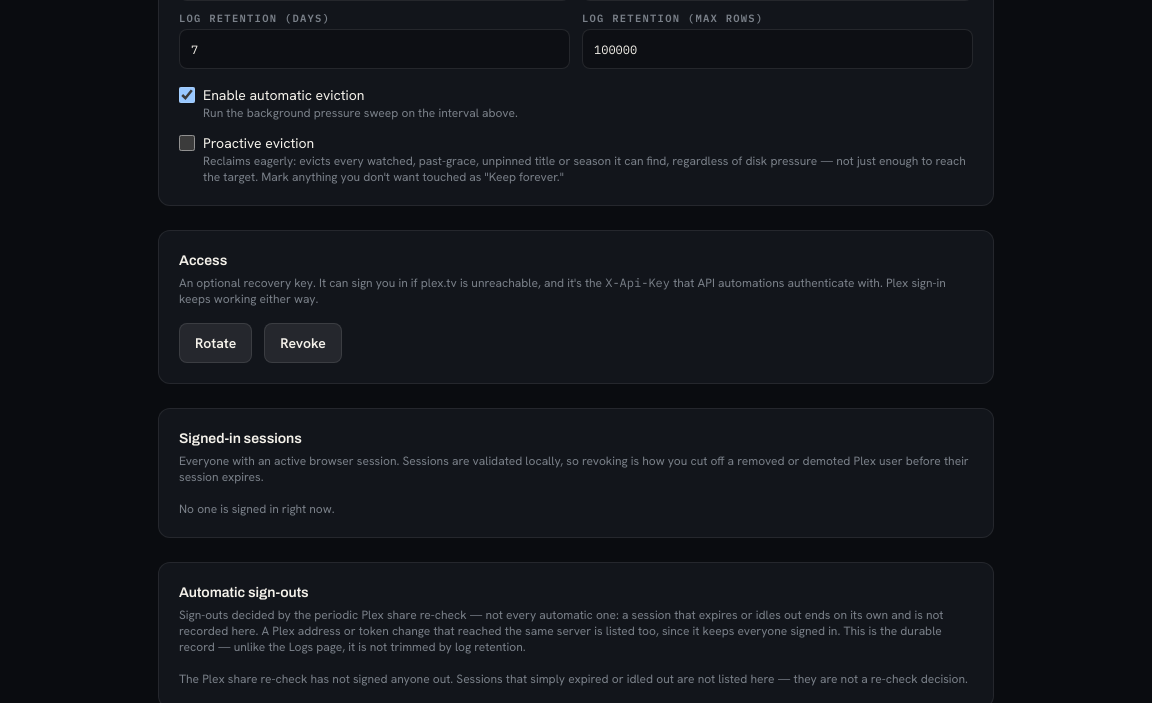
Test: Settings — Access recovery key (opt-in, ADR-0016) › rotates and re-reveals the new key once
This screenshot has width=1152, height=703.
(page scrolled)
Click the button "Rotate" at [216, 343], box [179,323,252,363]
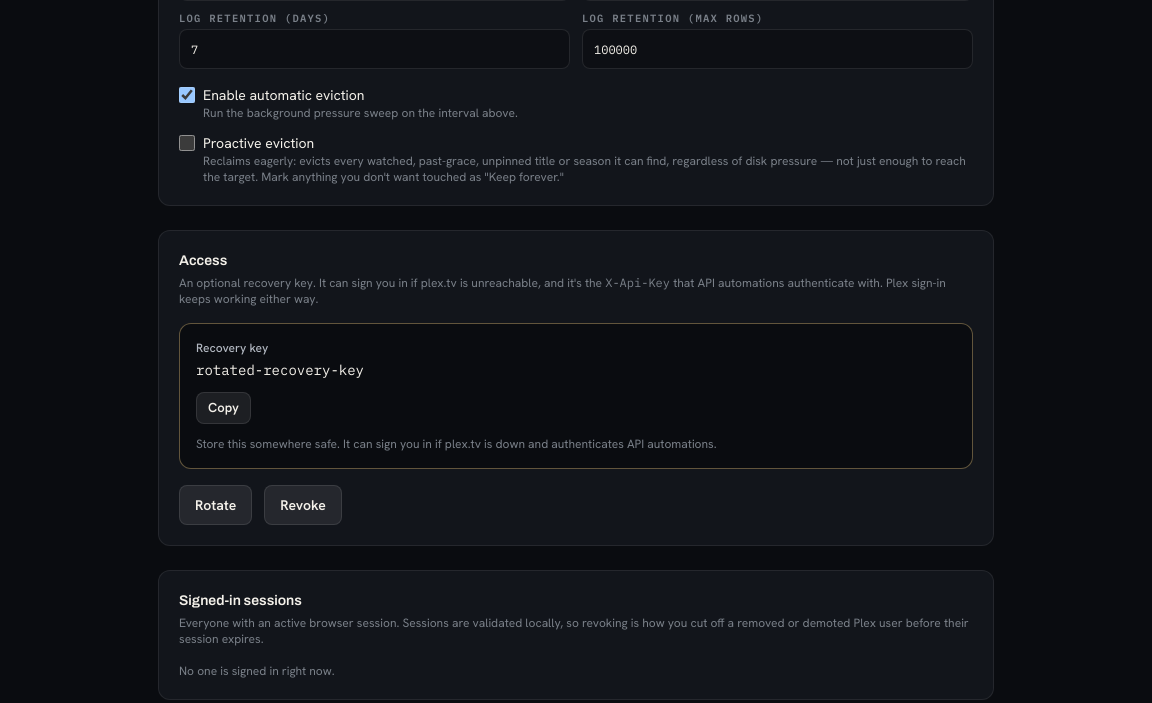
Expected: the text "rotated-recovery-key" is shown, [196,361,364,379]
Expected: the text "Store this somewhere safe. It can sign you in if plex.tv is down and authenticates API automations." is shown, [196,436,717,452]
